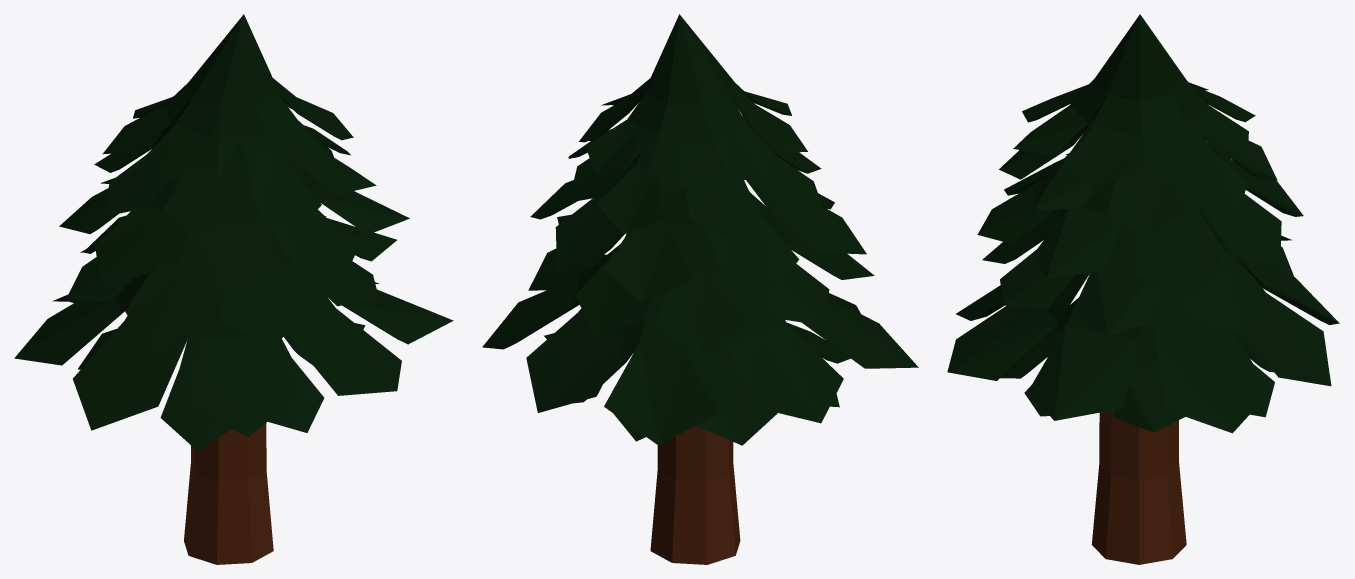
File: PINE TREE.fbx
3 renders of one model, left to right at view 1: azimuth 30°, elevation 25°; view 2: azimuth 150°, elevation 25°; view 3: azimuth 270°, elevation 25°, orthographic. The views are drawn at different scales.
Parts seen in each view (by area): view 1: Cylinder006; view 2: Cylinder006; view 3: Cylinder006.
Boxes of the visible parts, bbox=[...] form: Cylinder006: bbox=[14, 14, 453, 564]; Cylinder006: bbox=[482, 14, 918, 564]; Cylinder006: bbox=[947, 14, 1339, 564].
Size of the model in its own units: 338 by 468 by 310.
